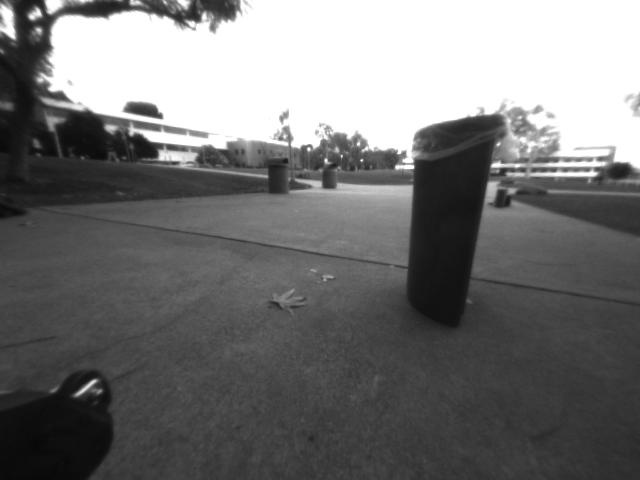trashcan: (397, 113, 520, 331)
